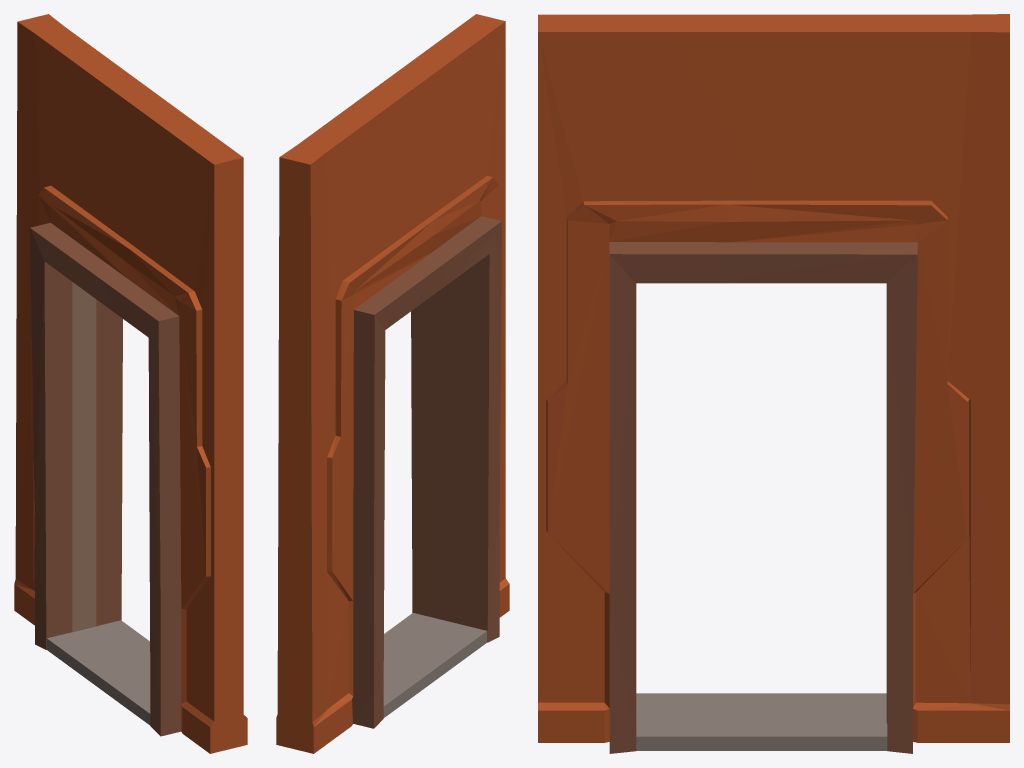
The model's file is Pared puerta 2.fbx.
3 renders of one model, left to right at view 1: azimuth 30°, elevation 25°; view 2: azimuth 150°, elevation 25°; view 3: azimuth 270°, elevation 25°, orthographic. The views are drawn at different scales.
Visible parts, largest first — view 1: Pared Puerta.001; view 2: Pared Puerta.001; view 3: Pared Puerta.001.
Part boxes in pixels (left/top/right/bottom): Pared Puerta.001: left=14, top=14, right=247, bottom=753; Pared Puerta.001: left=276, top=14, right=509, bottom=753; Pared Puerta.001: left=538, top=14, right=1009, bottom=753.
Size of the model in its own units: 45.47 by 309 by 187.
